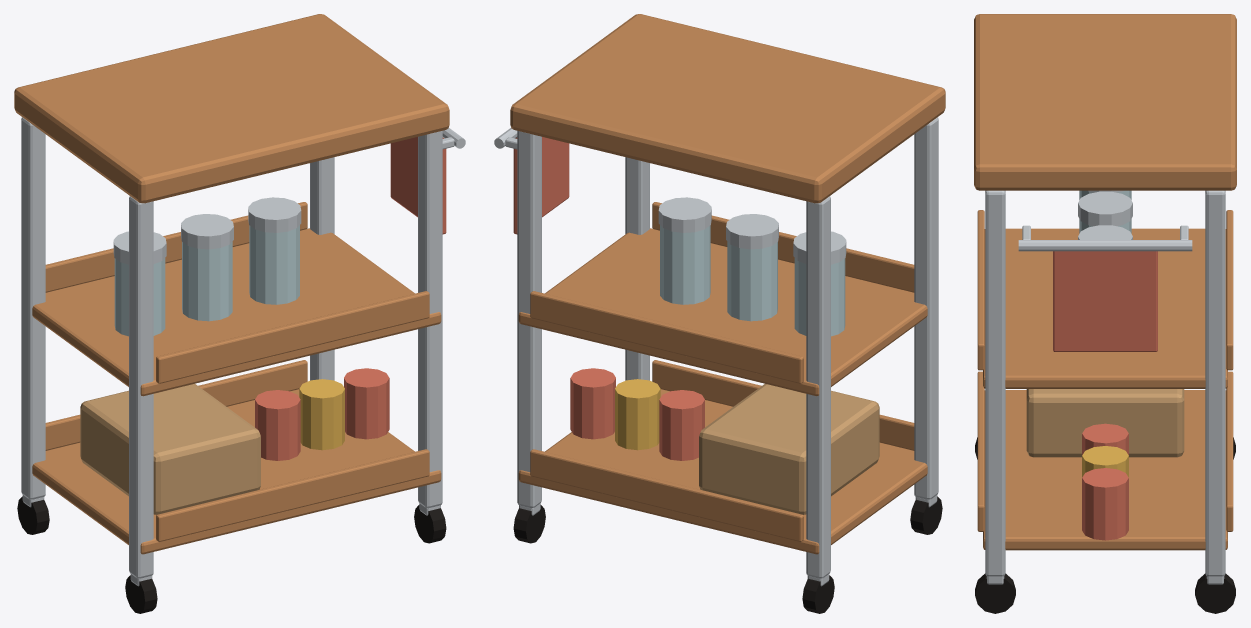
The model's file is hh_cat_kitchen_trolley.glb.
3 renders of one model, left to right at view 1: azimuth 30°, elevation 25°; view 2: azimuth 150°, elevation 25°; view 3: azimuth 270°, elevation 25°, orthographic. The views are drawn at different scales.
Visible parts, largest first — view 1: top, shelf.001, basket, shelf, leg, leg.001, leg.002, shelf_lip.002, shelf_lip, jar.002, jar.001, shelf_lip.001 (+13 smaller); view 2: top, shelf.001, basket, shelf, leg.001, leg, leg.003, shelf_lip.003, shelf_lip.001, jar.002, jar.001, shelf_lip (+13 smaller); view 3: top, shelf.001, shelf, towel, basket, leg.002, leg.003, produce.002, towel_rail, jar_lid.001, shelf_lip.002, shelf_lip.003 (+7 smaller).
Part boxes in pixels (left/top/right/bottom): top: left=14, top=14, right=449, bottom=203; shelf.001: left=32, top=228, right=441, bottom=396; basket: left=80, top=383, right=260, bottom=514; shelf: left=32, top=389, right=441, bottom=554; leg: left=129, top=196, right=153, bottom=578; leg.001: left=21, top=117, right=45, bottom=499; leg.002: left=418, top=131, right=442, bottom=508; shelf_lip.002: left=156, top=291, right=429, bottom=383; shelf_lip: left=156, top=449, right=429, bottom=541; jar.002: left=249, top=225, right=299, bottom=304; jar.001: left=182, top=241, right=232, bottom=321; shelf_lip.001: left=45, top=360, right=307, bottom=450; top: left=510, top=14, right=945, bottom=203; shelf.001: left=518, top=228, right=927, bottom=396; basket: left=699, top=383, right=879, bottom=514; shelf: left=518, top=389, right=927, bottom=554; leg.001: left=806, top=196, right=830, bottom=578; leg: left=914, top=117, right=938, bottom=499; leg.003: left=517, top=131, right=541, bottom=508; shelf_lip.003: left=530, top=291, right=803, bottom=383; shelf_lip.001: left=530, top=449, right=803, bottom=541; jar.002: left=660, top=225, right=710, bottom=304; jar.001: left=727, top=241, right=777, bottom=321; shelf_lip: left=652, top=360, right=914, bottom=450; top: left=974, top=14, right=1236, bottom=190; shelf.001: left=983, top=228, right=1227, bottom=388; shelf: left=983, top=390, right=1227, bottom=550; towel: left=1053, top=251, right=1157, bottom=351; basket: left=1026, top=389, right=1184, bottom=457; leg.002: left=985, top=190, right=1005, bottom=576; leg.003: left=1205, top=190, right=1225, bottom=576; produce.002: left=1082, top=468, right=1128, bottom=540; towel_rail: left=1018, top=240, right=1192, bottom=251; jar_lid.001: left=1078, top=191, right=1132, bottom=226; shelf_lip.002: left=977, top=210, right=984, bottom=370; shelf_lip.003: left=1226, top=210, right=1233, bottom=370.
Bounding box in the file's own units: 0.7 × 0.85 × 0.45.
